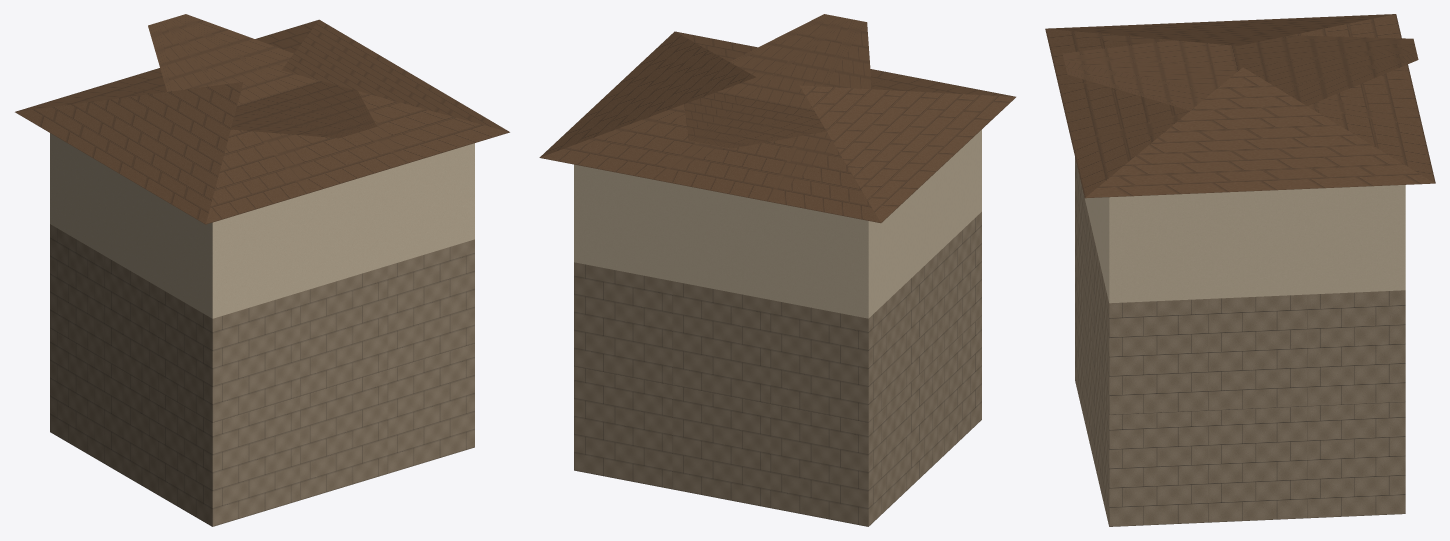
Rendered from bld_c10_27_398.gltf.
The picture shows the model from 3 angles, left to right: view 1: azimuth 30°, elevation 25°; view 2: azimuth 150°, elevation 25°; view 3: azimuth 270°, elevation 25°; orthographic projection. The views are drawn at different scales.
Parts seen in each view (by area): view 1: bld_c10_27_398; view 2: bld_c10_27_398; view 3: bld_c10_27_398.
Boxes of the visible parts, left/top/right/bottom form: bld_c10_27_398: left=15, top=14, right=509, bottom=526; bld_c10_27_398: left=539, top=14, right=1015, bottom=526; bld_c10_27_398: left=1045, top=14, right=1435, bottom=526.
Bounding box in the file's own units: 7.99 × 7.9 × 7.16.
3 materials, 3 textured.
